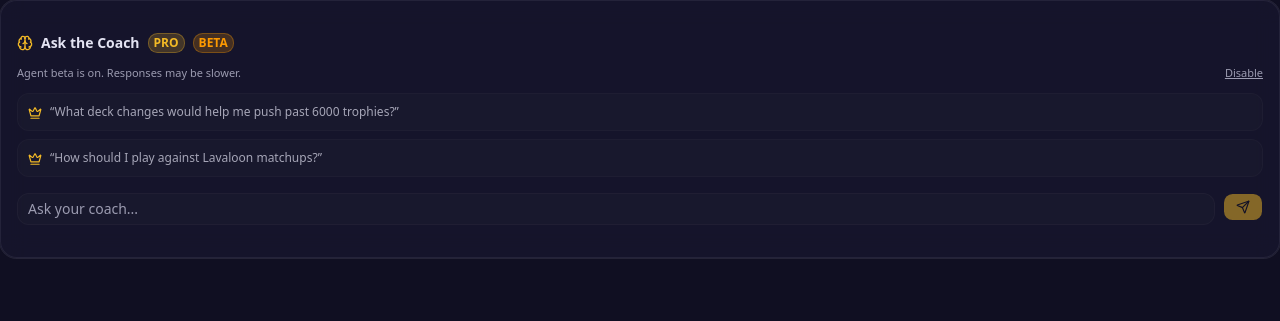
CoachChat › agentic streaming path › renders an error state for anthropic_error events
Expected: the text "Agent beta is on. Responses may be slower." is shown, [17,65,241,81]
Type "hi" into the field with placeholder "Ask your coach...".
click(616, 209); type("hi")  # box [17,193,1215,225]
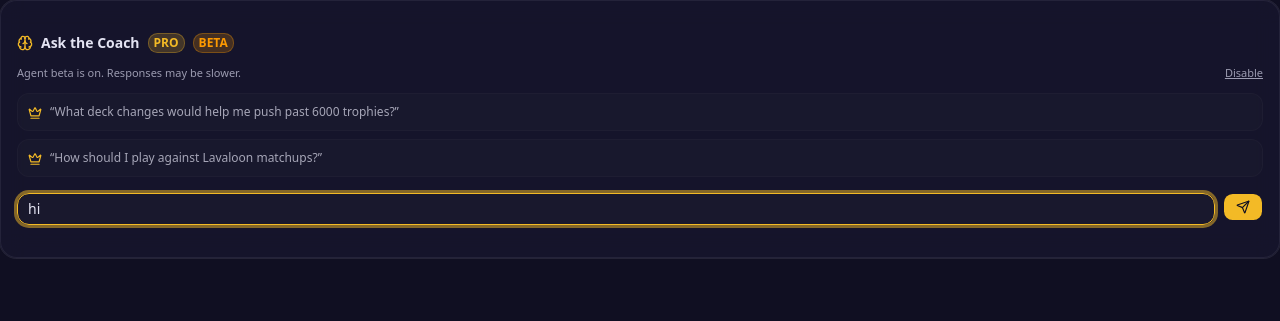
Click the button named "send coach question".
click(1243, 207)  # box [1223,193,1263,221]
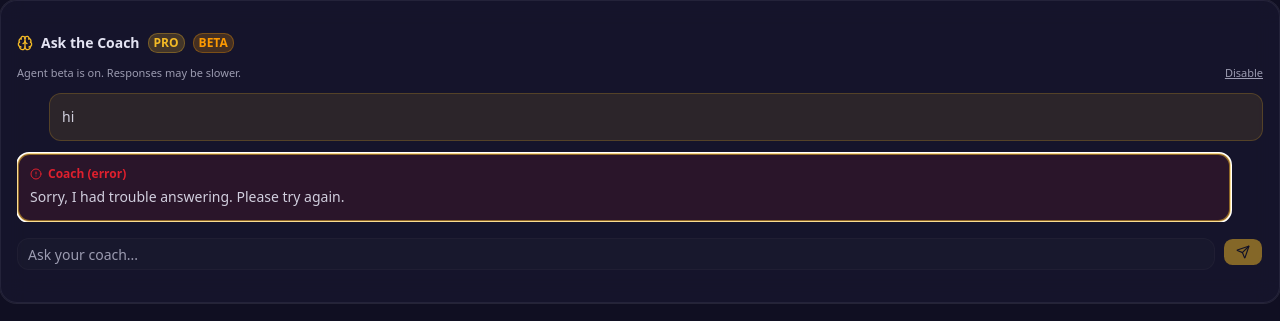
Expected: the text "Coach (error)" is shown, [48,166,126,182]
Expected: the text "Sorry, I had trouble answering. Please try again." is shown, [30,188,344,206]
